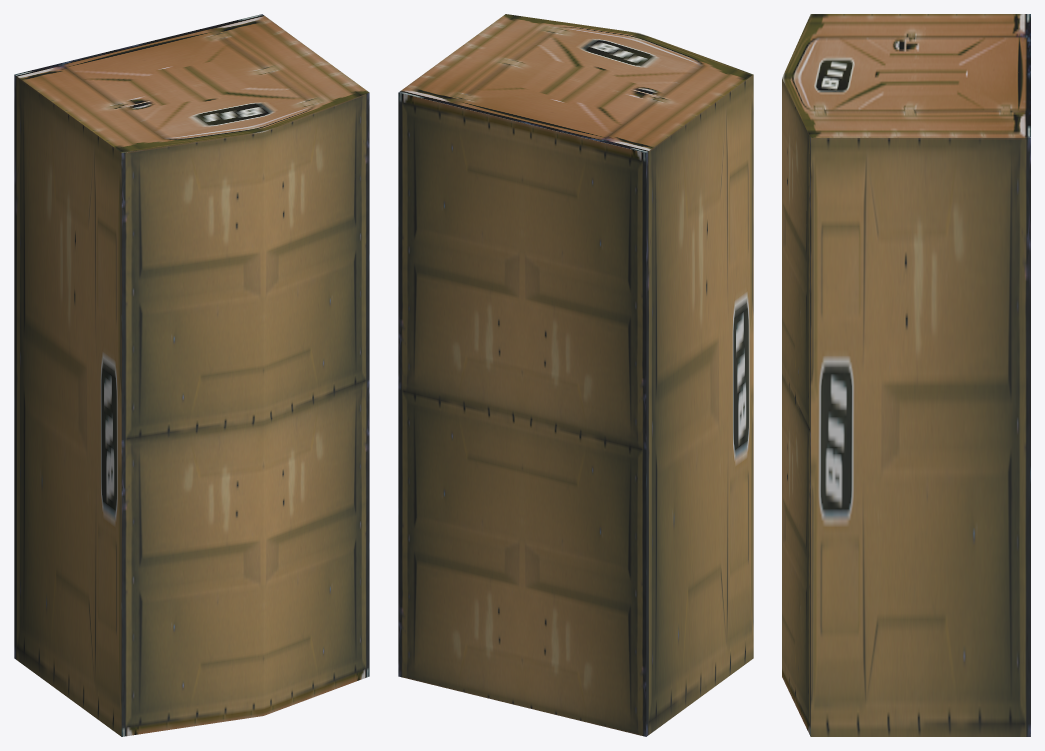
File: urbantrl_yel1a_wtf.obj
The picture shows the model from 3 angles, left to right: view 1: azimuth 30°, elevation 25°; view 2: azimuth 150°, elevation 25°; view 3: azimuth 270°, elevation 25°; orthographic projection. The views are drawn at different scales.
Parts seen in each view (by area): view 1: group2; view 2: group2; view 3: group2.
Part boxes in pixels (<box>): group2: <box>14,14,369,736</box>; group2: <box>398,14,753,736</box>; group2: <box>782,14,1030,736</box>.
Size of the model in its own units: 293 by 660 by 249.
